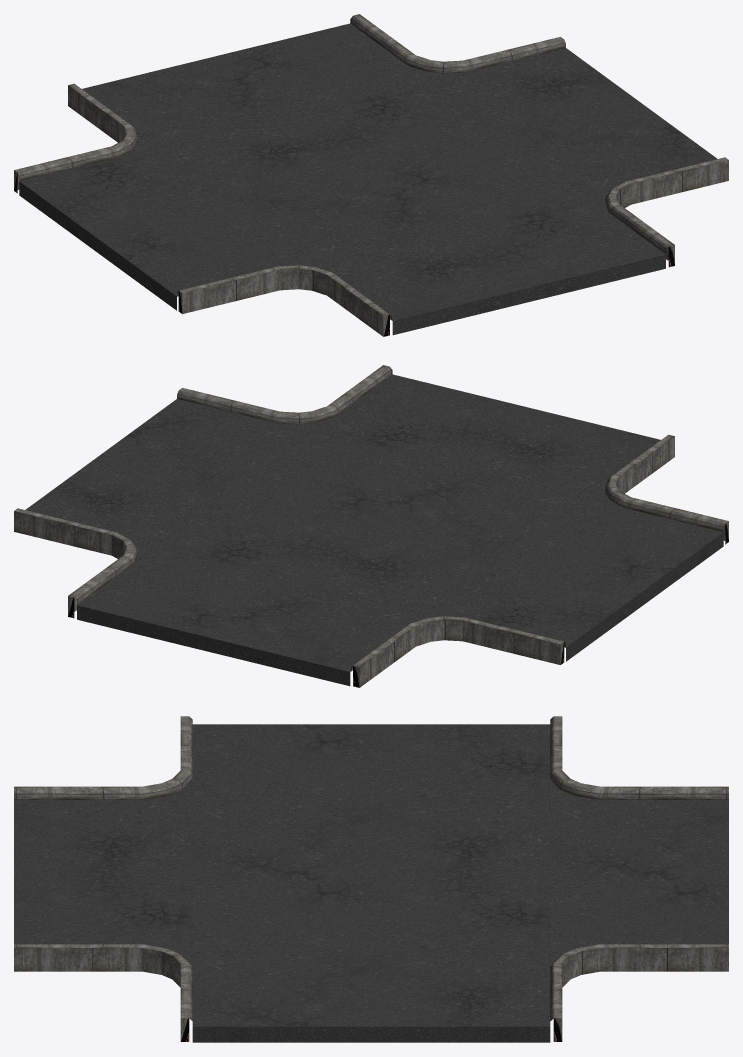
The model's file is x_cross.fbx.
The picture shows the model from 3 angles, top to bottom: view 1: azimuth 30°, elevation 25°; view 2: azimuth 150°, elevation 25°; view 3: azimuth 270°, elevation 25°; orthographic projection. The views are drawn at different scales.
Visible parts, largest first — view 1: Crossroad_X_Road, Crossroad_X_Sidewalk; view 2: Crossroad_X_Road, Crossroad_X_Sidewalk; view 3: Crossroad_X_Road, Crossroad_X_Sidewalk.
Part boxes in pixels (x1,y1,x2,y2): Crossroad_X_Road: (19, 23, 717, 335); Crossroad_X_Sidewalk: (14, 14, 728, 336); Crossroad_X_Road: (25, 374, 723, 686); Crossroad_X_Sidewalk: (14, 365, 728, 687); Crossroad_X_Road: (14, 724, 728, 1042); Crossroad_X_Sidewalk: (14, 716, 728, 1041).
Size of the model in its own units: 4 by 0.15 by 4.
